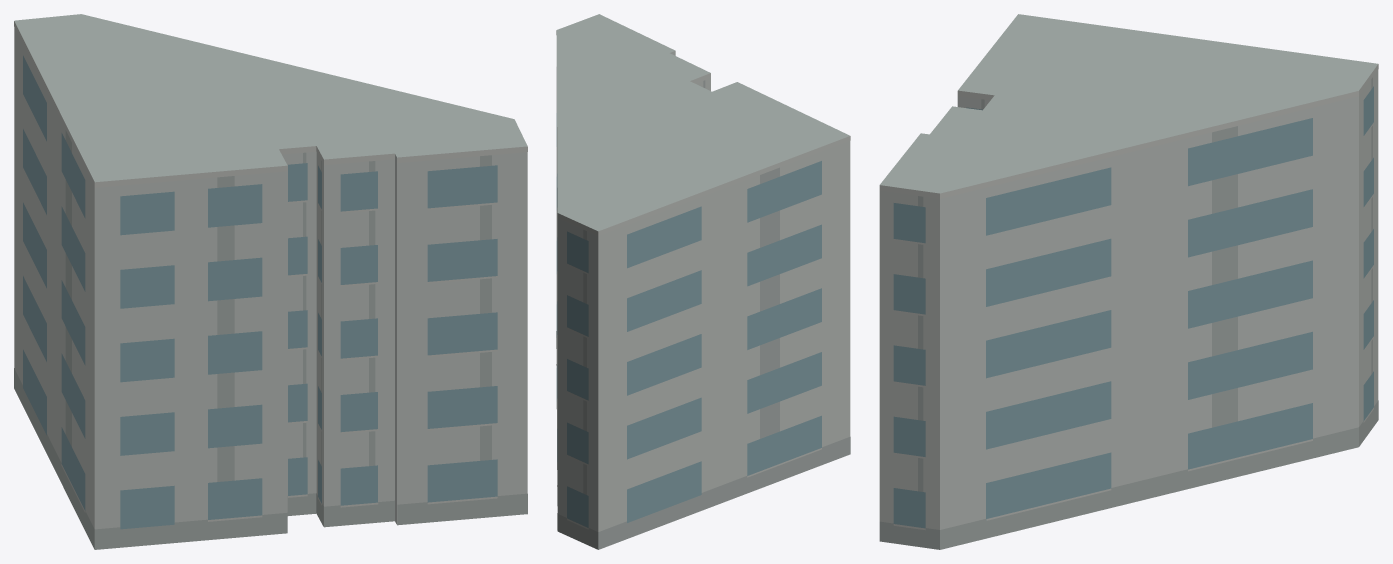
File: survey-upis-32903065.glb
The picture shows the model from 3 angles, left to right: view 1: azimuth 30°, elevation 25°; view 2: azimuth 150°, elevation 25°; view 3: azimuth 270°, elevation 25°; orthographic projection. The views are drawn at different scales.
Parts seen in each view (by area): view 1: survey-upis-32903065.tmp; view 2: survey-upis-32903065.tmp; view 3: survey-upis-32903065.tmp.
Part boxes in pixels (box(x1,y1,x2,y2)): survey-upis-32903065.tmp: box(14, 14, 527, 549); survey-upis-32903065.tmp: box(556, 14, 850, 549); survey-upis-32903065.tmp: box(879, 14, 1378, 549).
Size of the model in its own units: 16.97 by 15.7 by 19.93.
